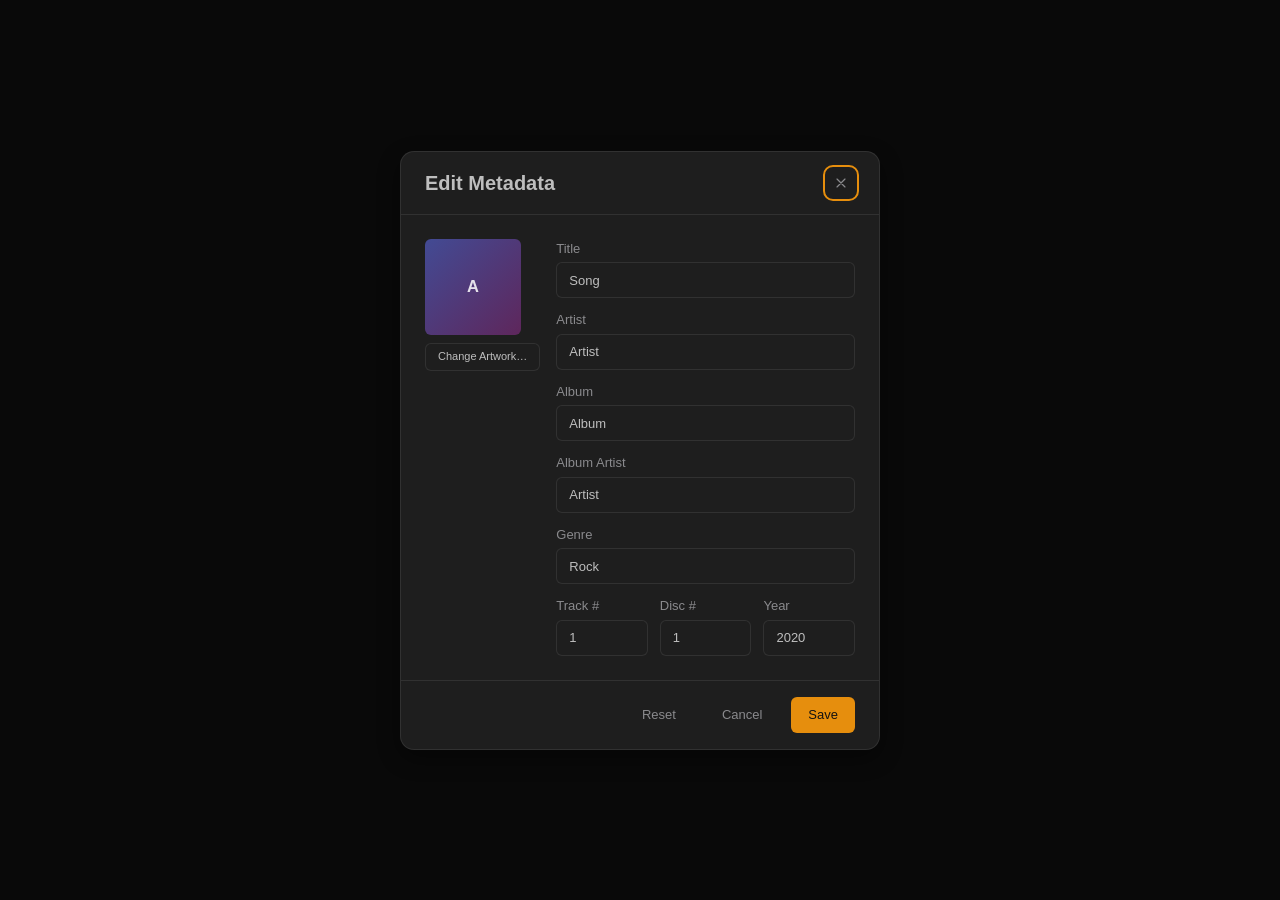
Test: MetadataEditDialog › Reset restores the fields to the track's current values after an edit
Replace the text in the field labelled "Title" with "Something else" at {"x": 706, "y": 280}, box [556, 262, 855, 298]
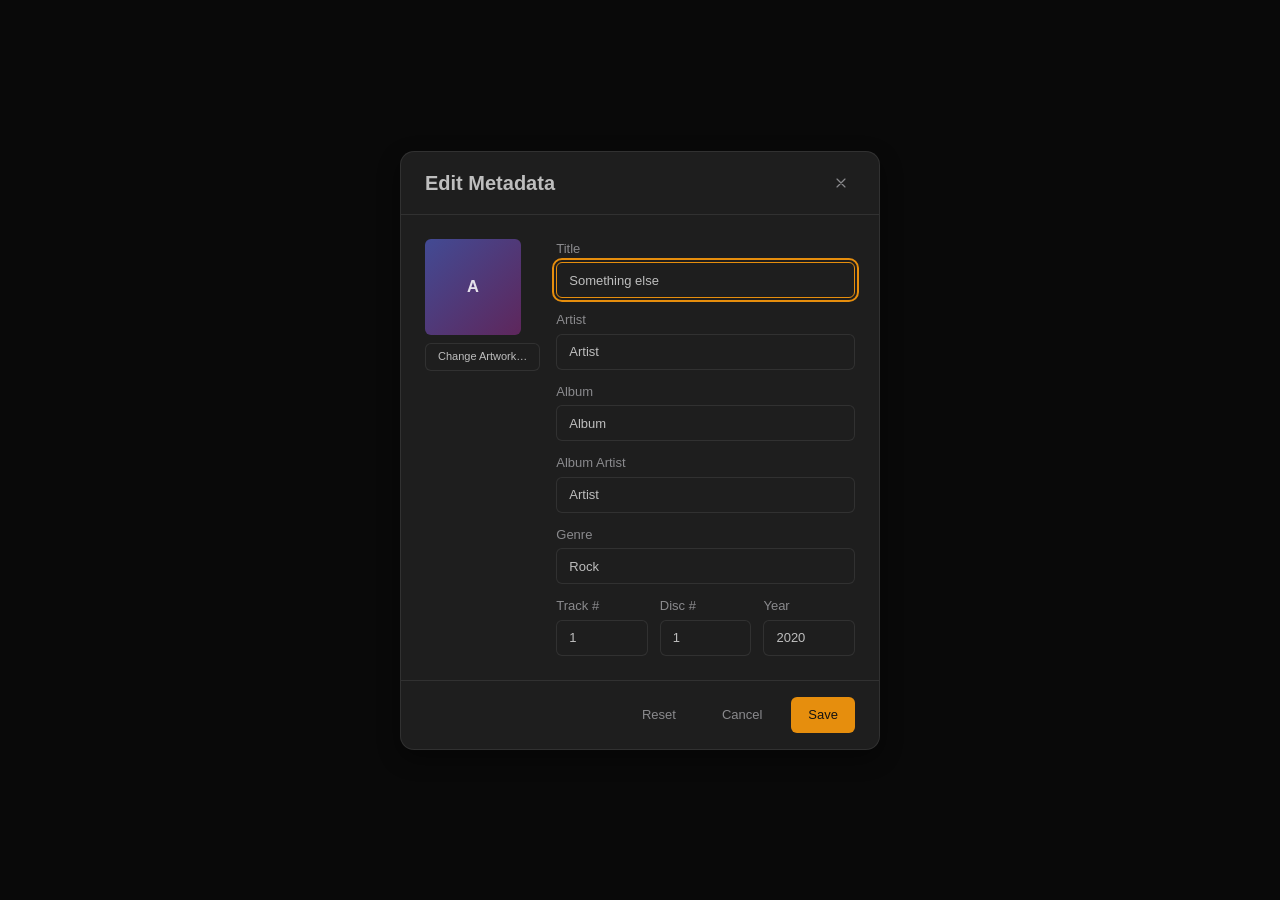
Click the button "Reset" at {"x": 659, "y": 714}, box [625, 696, 693, 732]
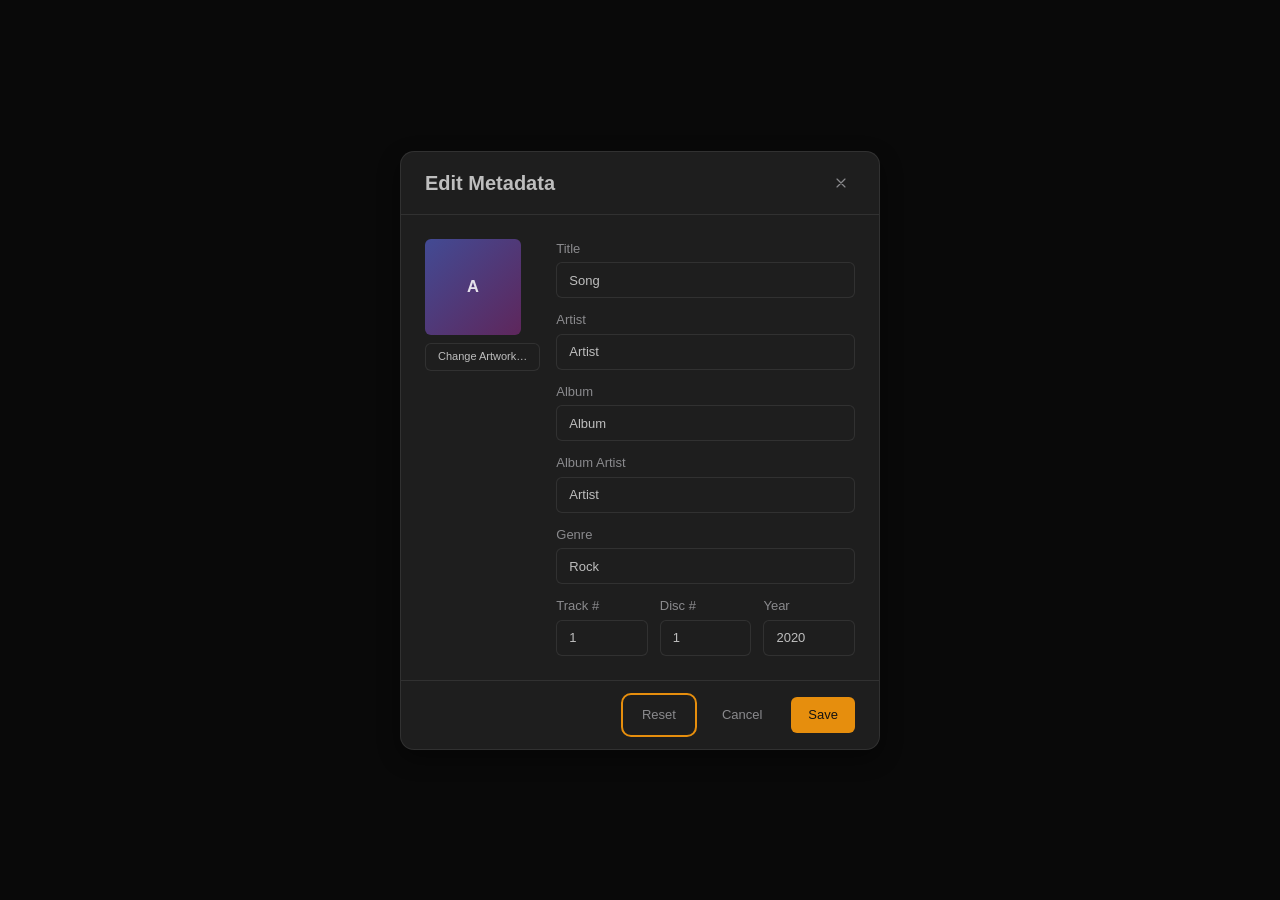
Result: the field labelled "Title" holds "Song" at [556, 262, 855, 298]
